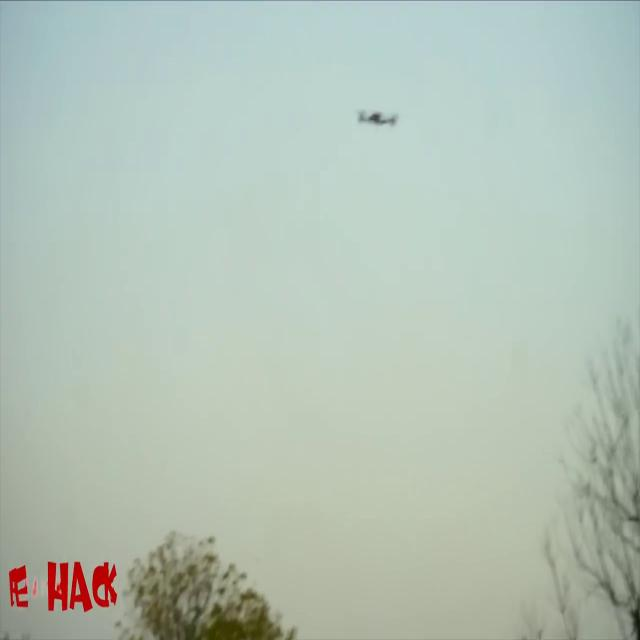drone: (356, 96, 404, 142)
